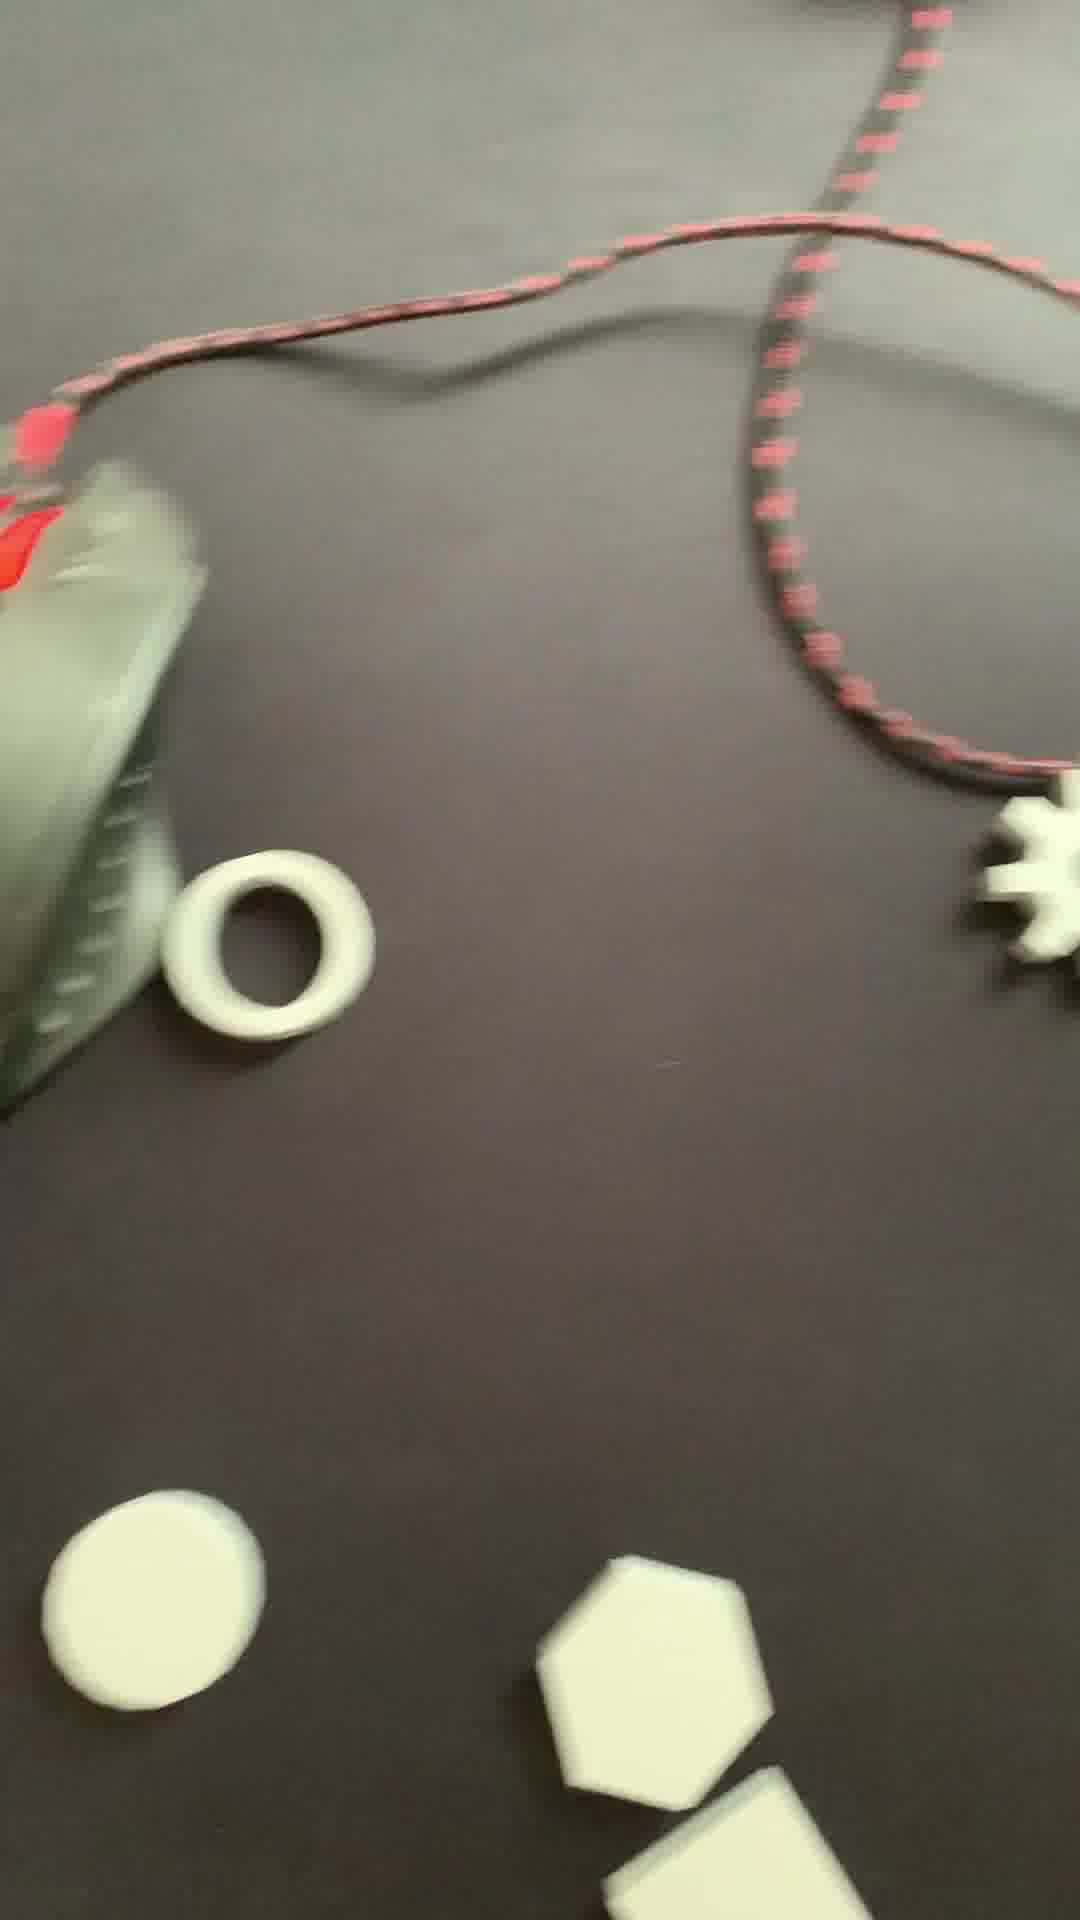Gray circle: (53, 1484, 253, 1710)
Gray gear: (960, 773, 1080, 1007)
Gray hexagon: (531, 1552, 785, 1807)
Gray ring: (156, 855, 392, 1059)
Gray square: (596, 1764, 872, 1920)
